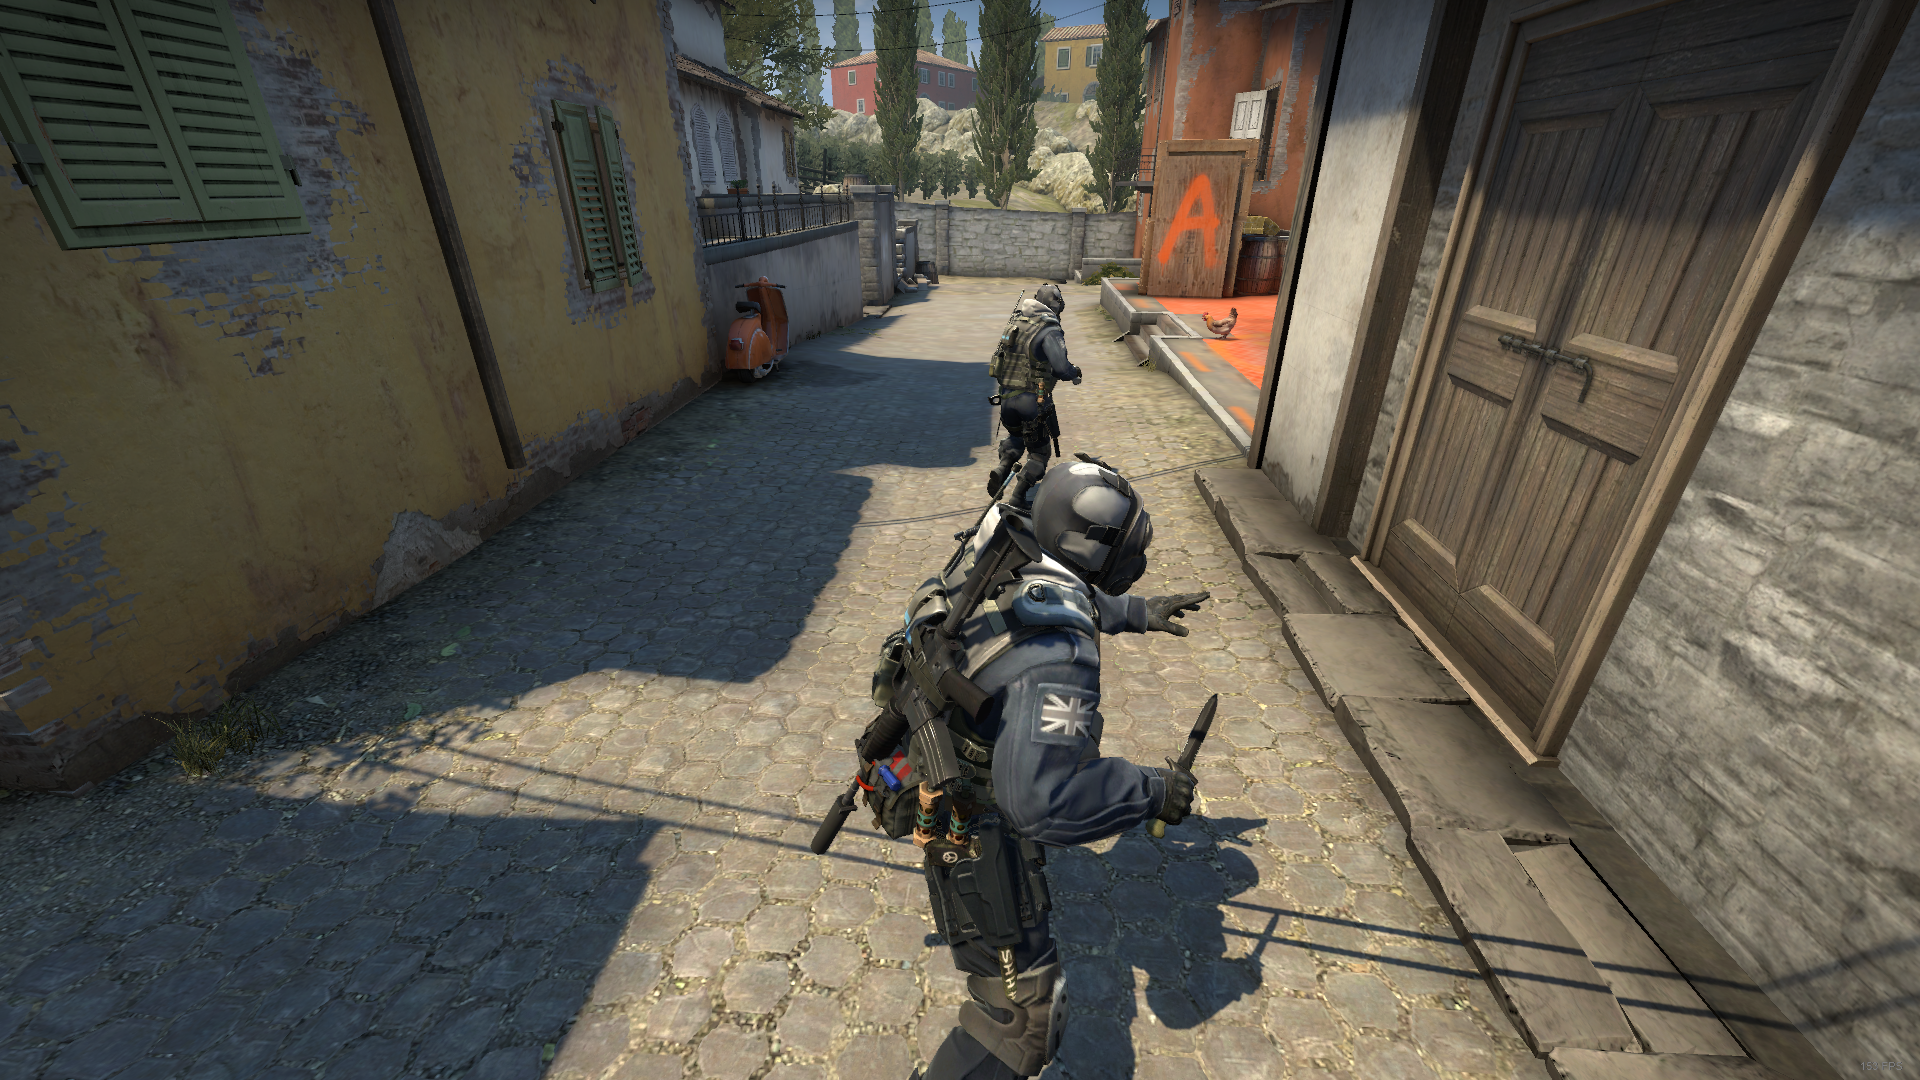ct: (880, 451, 1211, 1080), (989, 285, 1087, 512)
